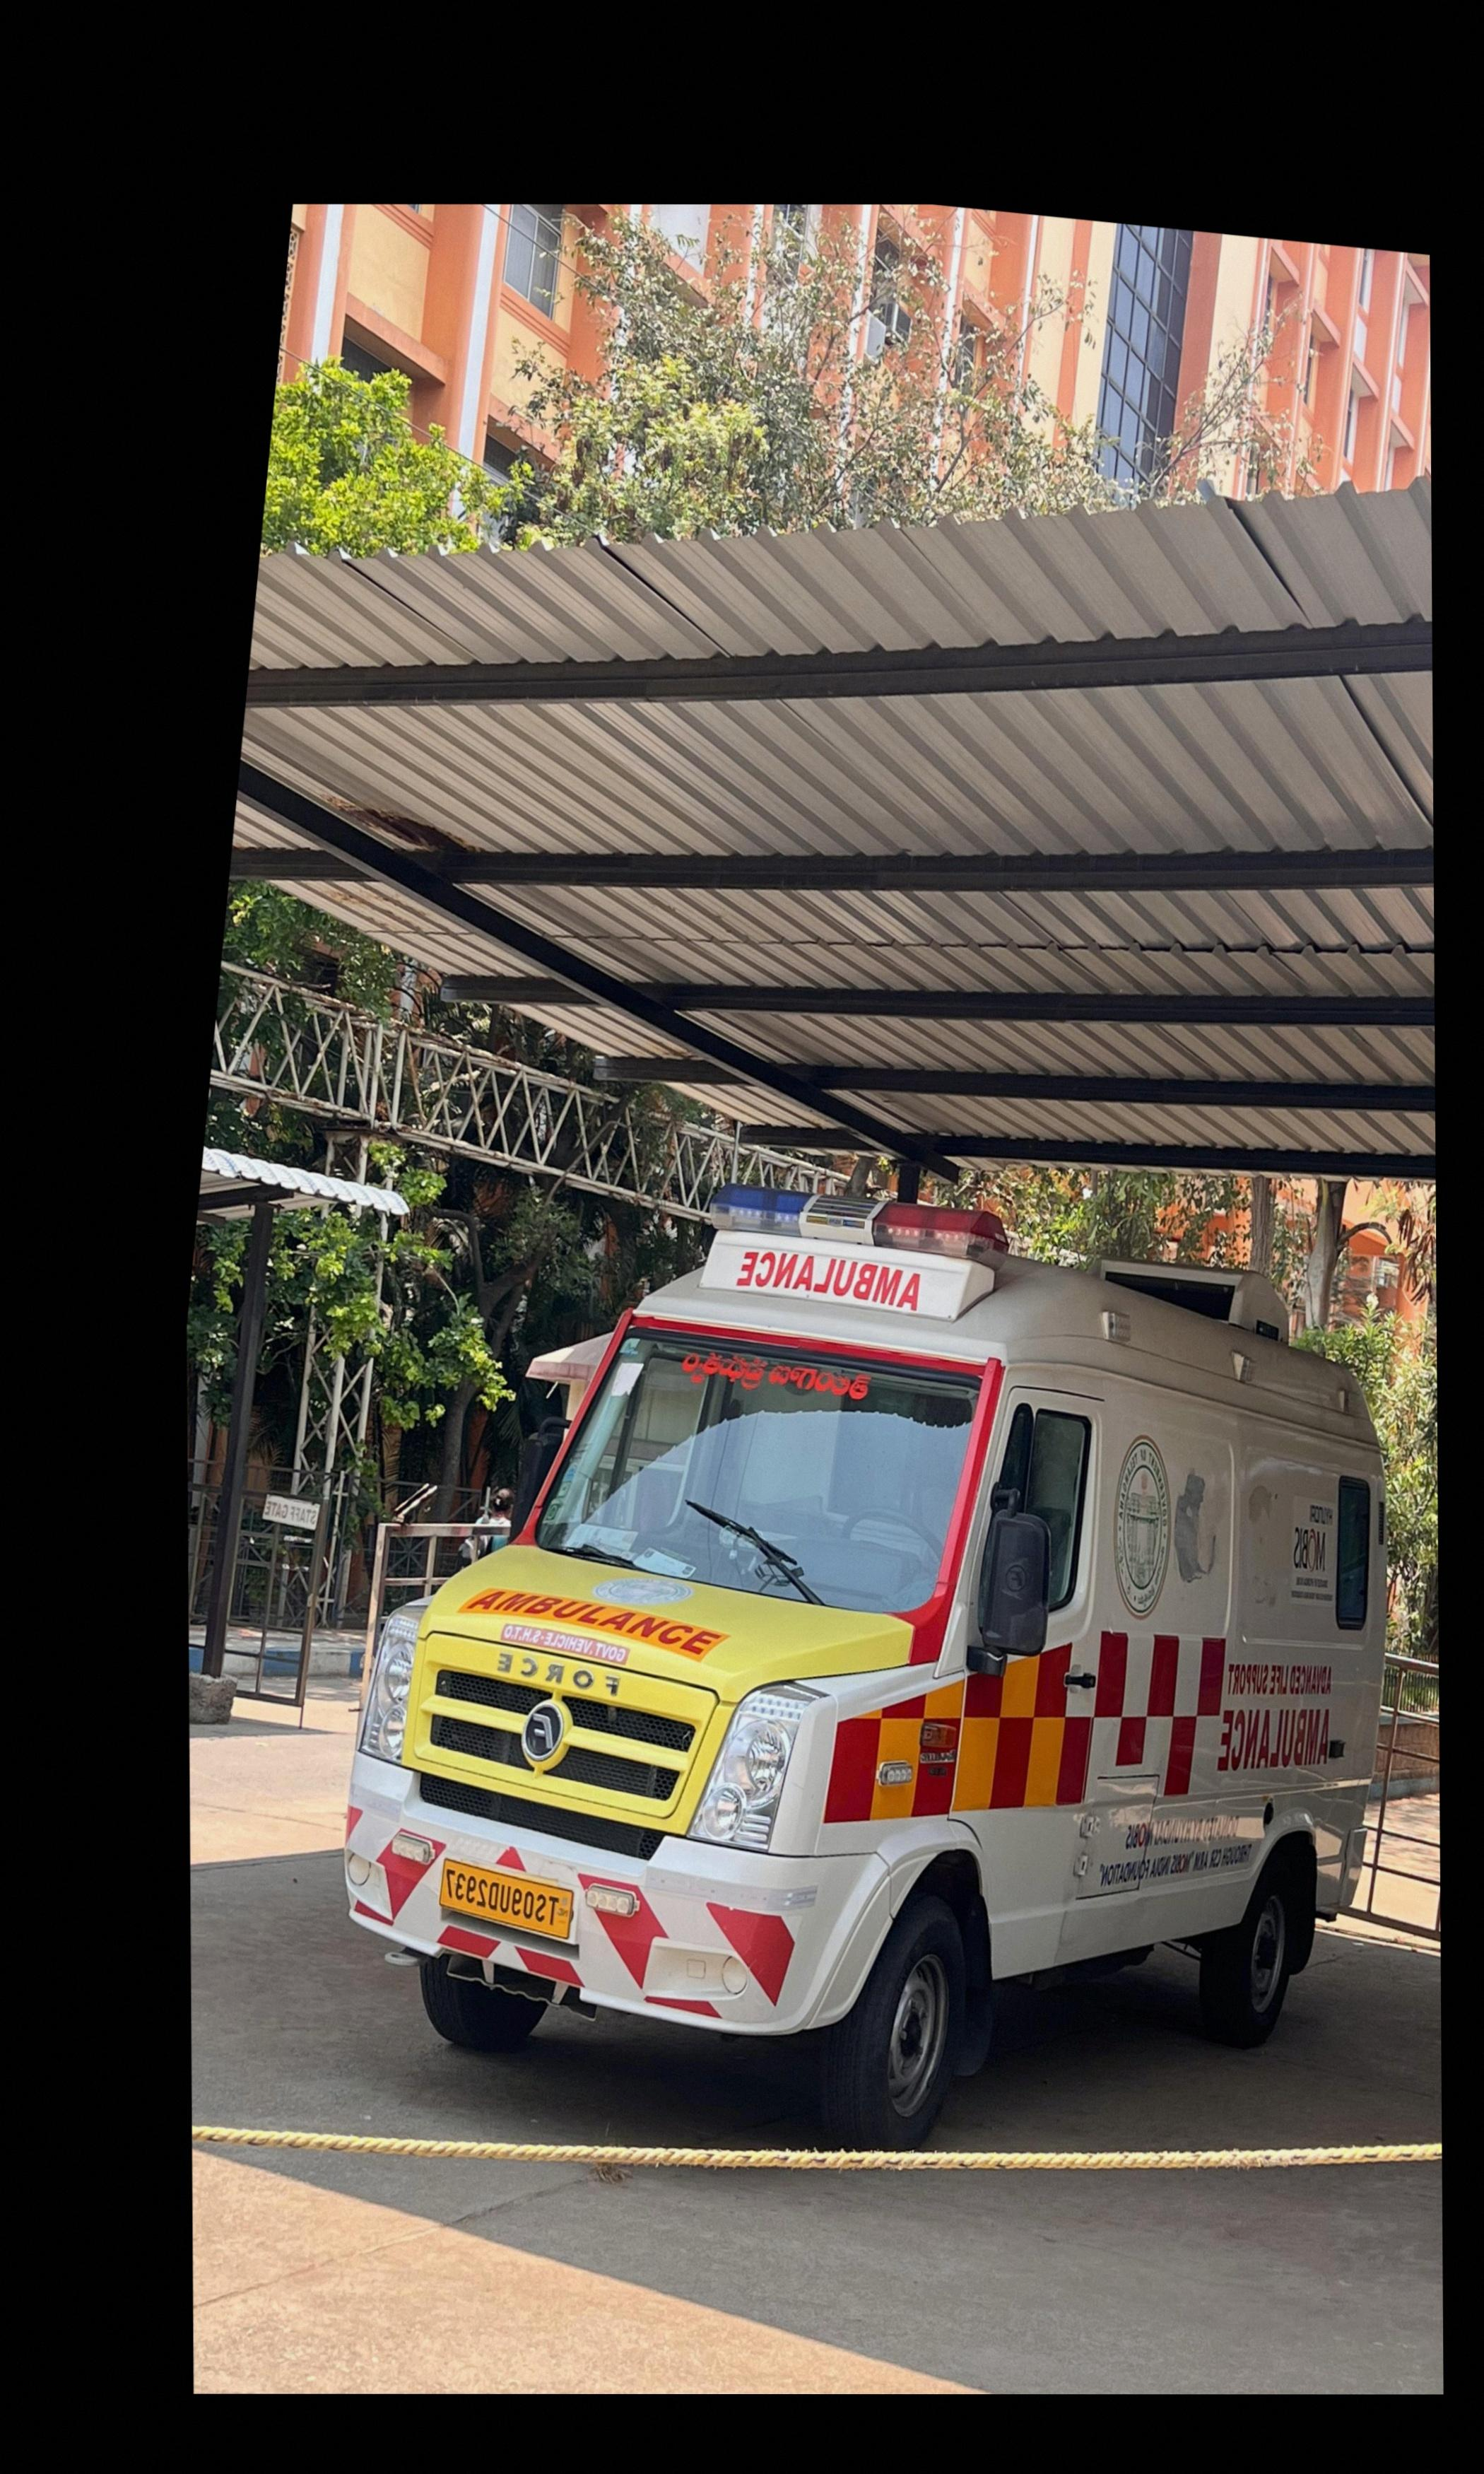ambulance: (344, 1182, 1390, 2158)
